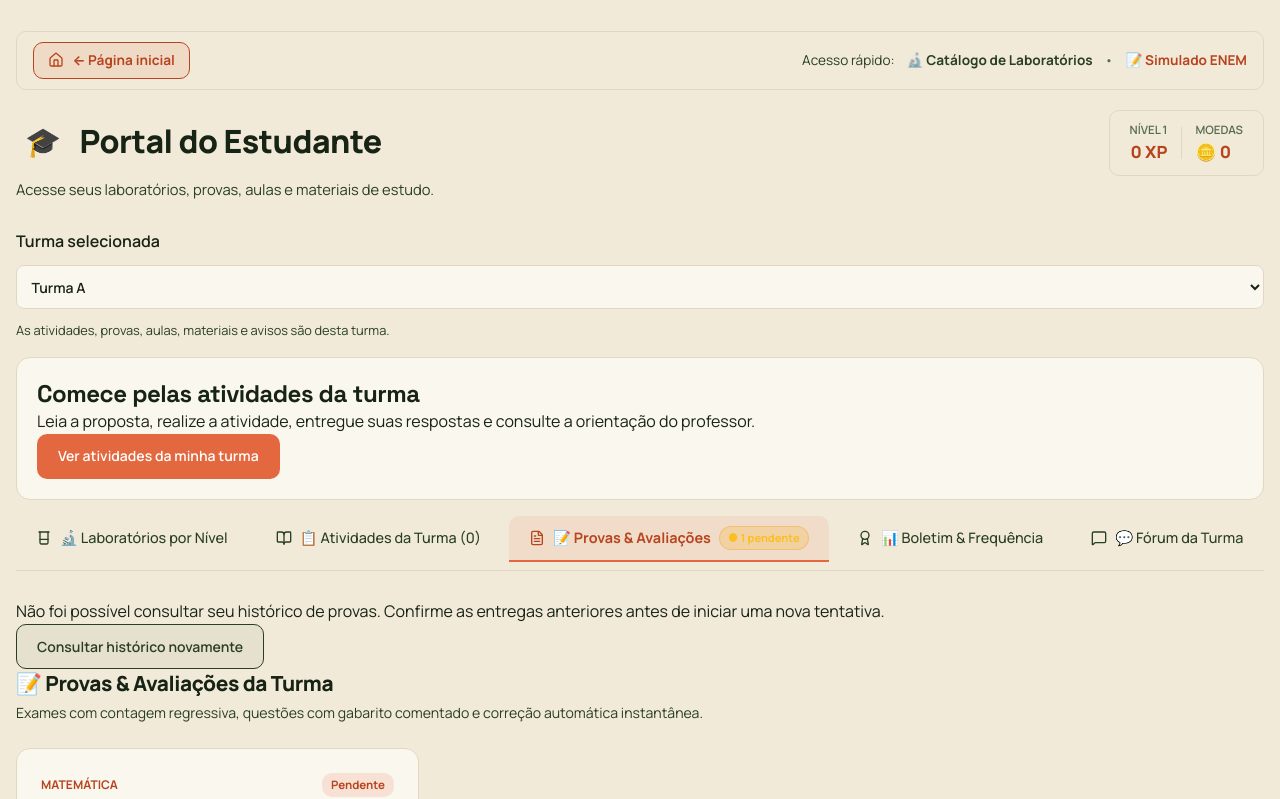
Test: continuidade da matrícula e entregas de provas › bloqueia nova tentativa quando o histórico falha e permite recuperar a consulta
The image size is (1280, 799).
expect the text "Não foi possível consultar seu histórico de provas" is shown: met, box [16, 600, 885, 622]
What coordinates should you click on to do the following:
click the button "Consultar histórico novamente"
I would click on:
 (140, 646)
Its box is [16, 624, 264, 669].
(page scrolled)
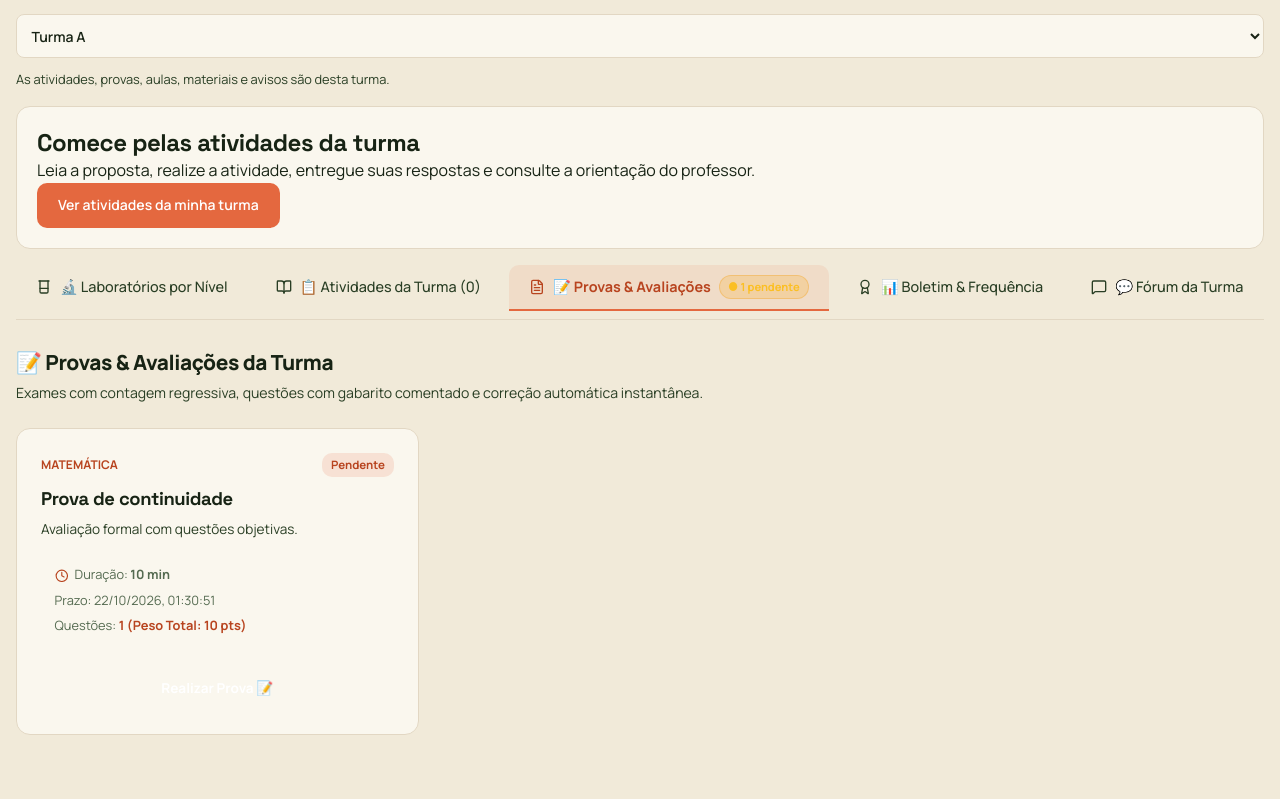
expect the button "Realizar Prova 📝" is enabled: met, box [41, 666, 394, 710]
